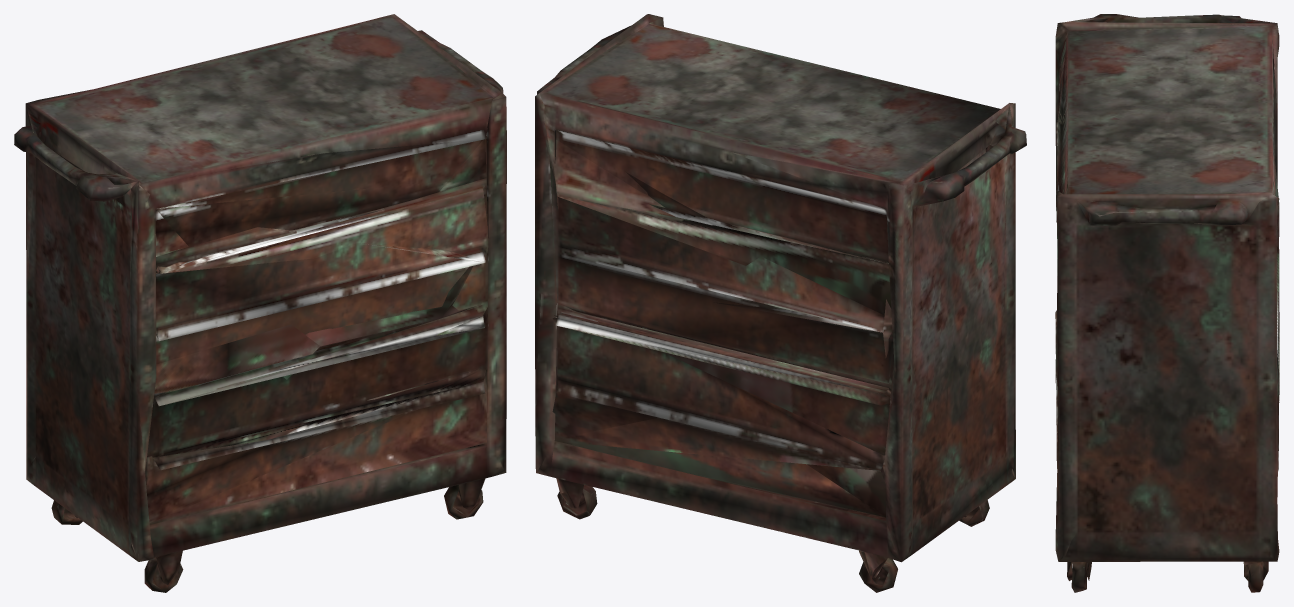
The model's file is oficina_jimmy_peca_4.glb.
3 views of the same model, side by side, from view 1: azimuth 30°, elevation 25°; view 2: azimuth 150°, elevation 25°; view 3: azimuth 270°, elevation 25° (orthographic). The views are drawn at different scales.
Visible parts, largest first — view 1: Mesh1.0; view 2: Mesh1.0; view 3: Mesh1.0.
Part boxes in pixels (bbox=[...]): Mesh1.0: bbox=[14, 14, 506, 592]; Mesh1.0: bbox=[535, 14, 1026, 592]; Mesh1.0: bbox=[1055, 14, 1279, 592].
Size of the model in its own units: 1.9 by 1.84 by 0.9067.
1 material, 1 textured.
